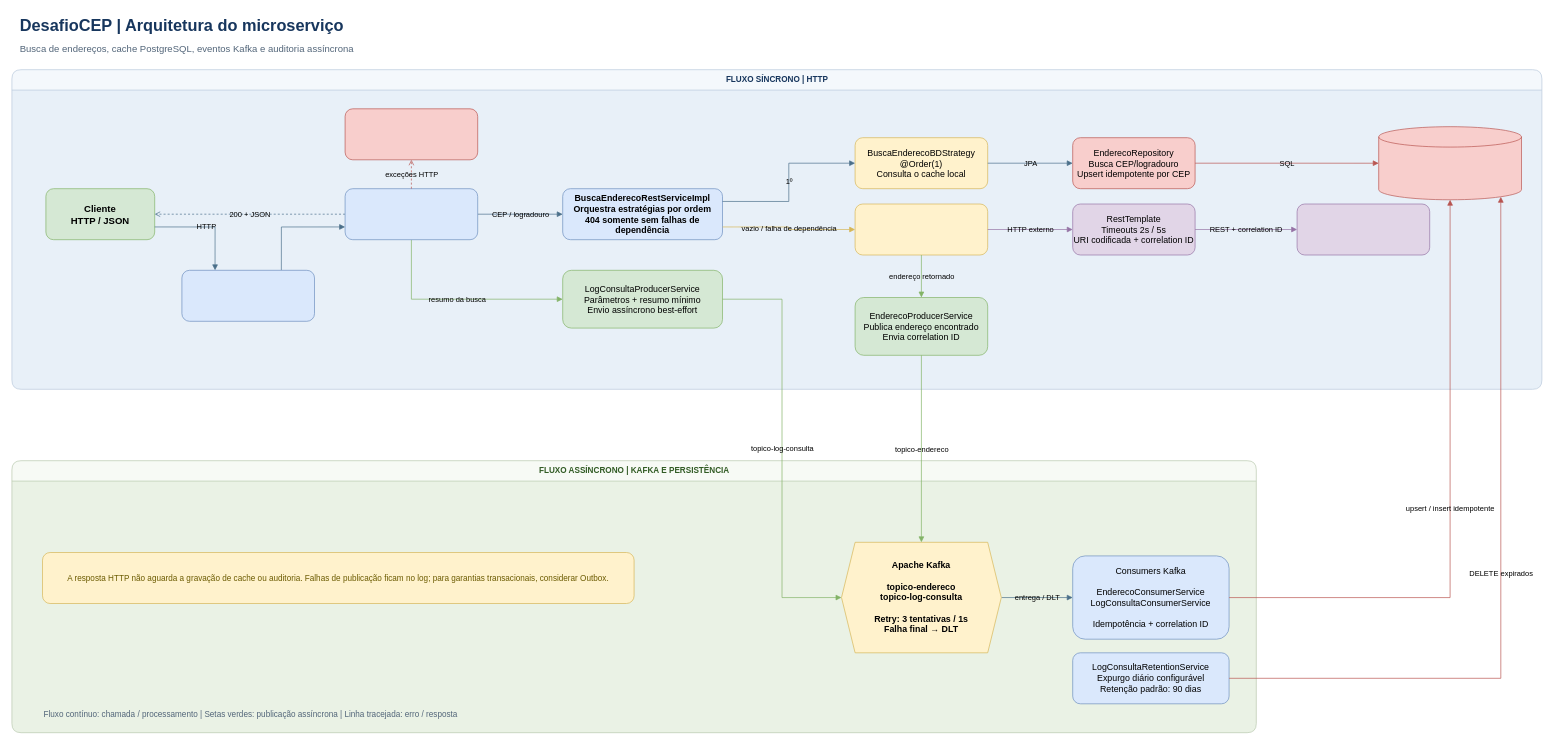
Some shapes in this 1554 by 745 pixel diagram are drawn without their labels. The shapes that lost their labels are listed below. From the top down, each one's box as (x1, y1, x2, y2) in pixels, then its label:
(344, 108, 478, 160): GlobalExceptionHandler Erro padronizado com path 400 / 404 / 502 / 503
(1378, 126, 1522, 200): PostgreSQL enderecos (CEP único) logs_consultas (auditoria) JPA validate
(344, 188, 478, 240): BuscaController /api/buscar/por-cep/{cep} /api/buscar/por-logradouro
(854, 203, 988, 255): BuscaEnderecoRestStrategy @Order(2) Fallback ViaCEP; publica cache
(1296, 203, 1430, 255): ViaCEP API REST externa Busca por CEP e logradouro
(181, 270, 314, 321): RequestFilter CorrelationFilter x-correlation-id + MDC
